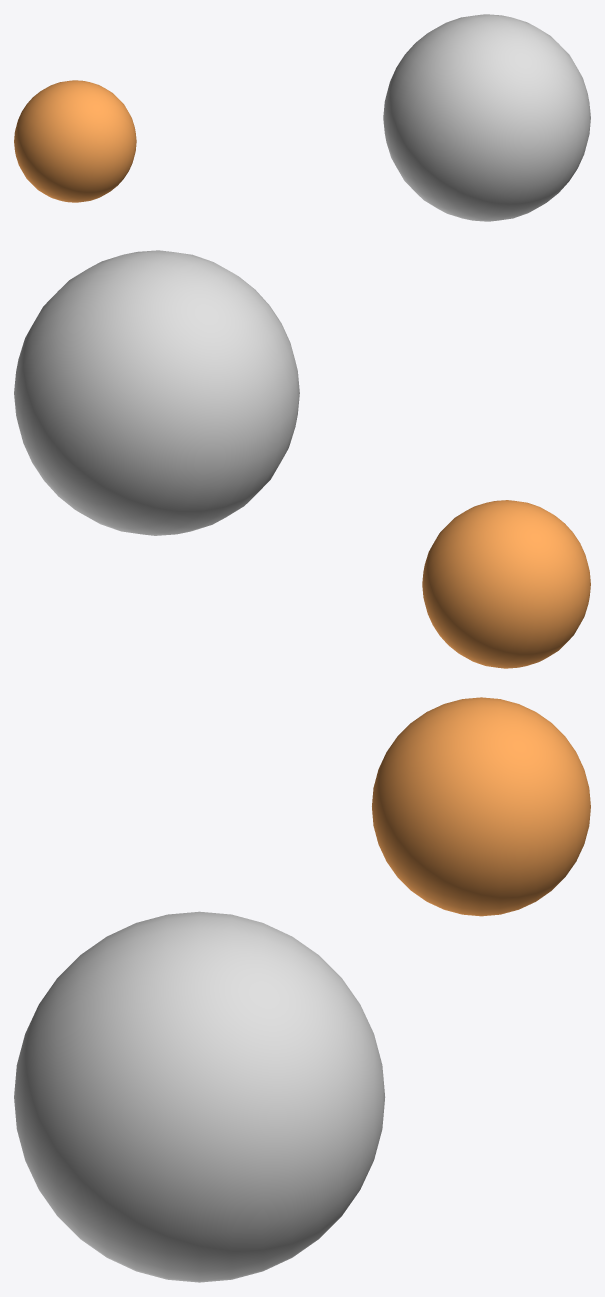
The picture shows the model from 3 angles, top to bottom: view 1: azimuth 30°, elevation 25°; view 2: azimuth 150°, elevation 25°; view 3: azimuth 270°, elevation 25°; orthographic projection. The views are drawn at different scales.
Parts seen in each view (by area): view 1: ball, fire_glow; view 2: ball, fire_glow; view 3: ball, fire_glow.
Boxes of the visible parts, bbox=[...] form: ball: bbox=[383, 14, 590, 221]; fire_glow: bbox=[14, 80, 136, 202]; ball: bbox=[14, 250, 299, 535]; fire_glow: bbox=[422, 500, 590, 668]; ball: bbox=[14, 911, 385, 1282]; fire_glow: bbox=[372, 697, 590, 916].
Bounding box in the file's own units: 2.65 × 1 × 1.55.
